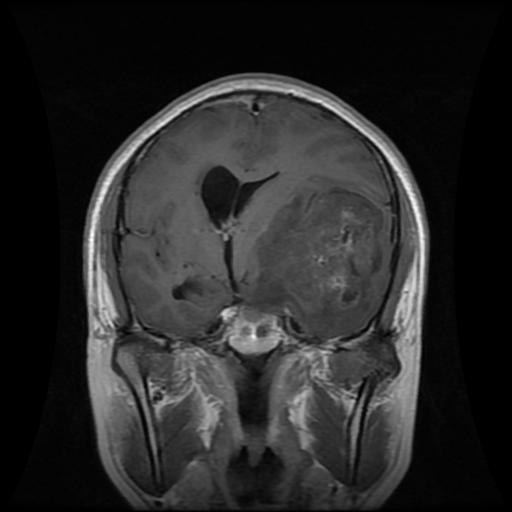Gliomia_tumour: (242, 186, 382, 339)
